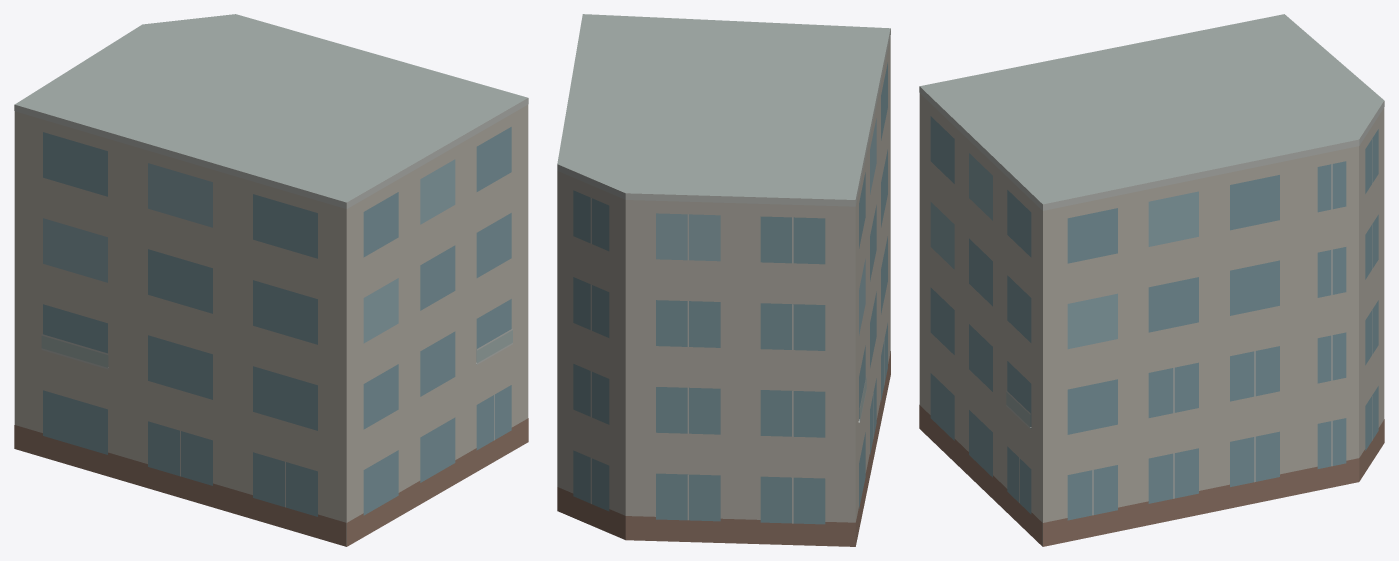
File: survey-upis-32707362.glb
3 renders of one model, left to right at view 1: azimuth 30°, elevation 25°; view 2: azimuth 150°, elevation 25°; view 3: azimuth 270°, elevation 25°, orthographic.
Parts seen in each view (by area): view 1: survey-upis-32707362.tmp; view 2: survey-upis-32707362.tmp; view 3: survey-upis-32707362.tmp.
Part boxes in pixels (<box>): survey-upis-32707362.tmp: <box>14,14,528,546</box>; survey-upis-32707362.tmp: <box>557,14,890,546</box>; survey-upis-32707362.tmp: <box>919,14,1384,546</box>.
Bounding box in the file's own units: 15.28 × 12.8 × 15.76.
